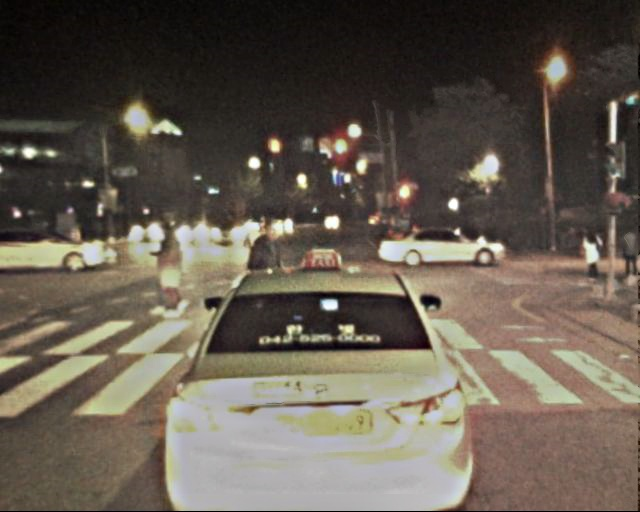person: (242, 219, 289, 333), (151, 219, 191, 317), (579, 226, 603, 284), (621, 229, 640, 281)
